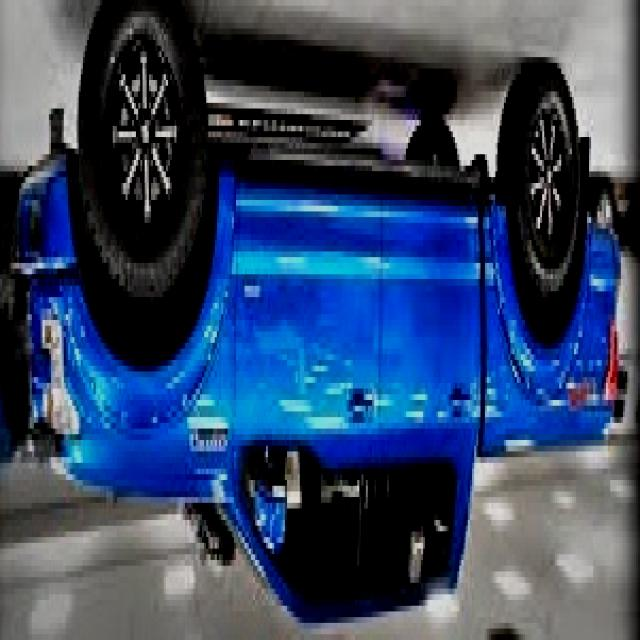blue: (23, 64, 640, 640)
